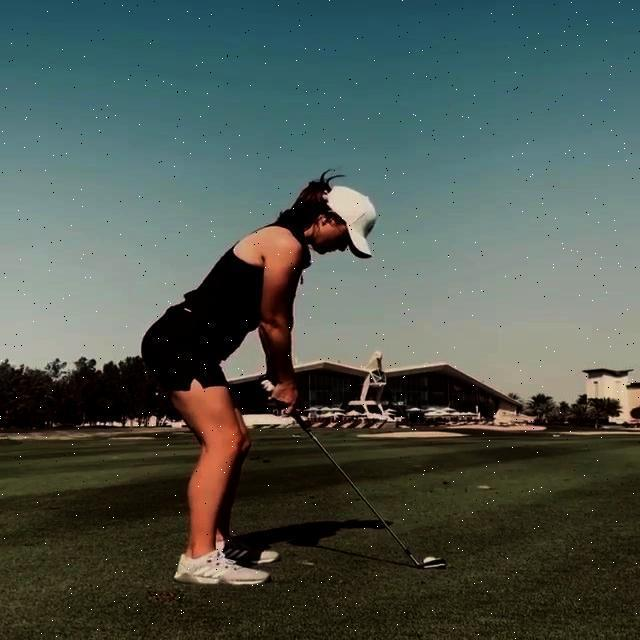ClubHead: (423, 558, 449, 570)
GolfBall: (422, 556, 438, 564)
